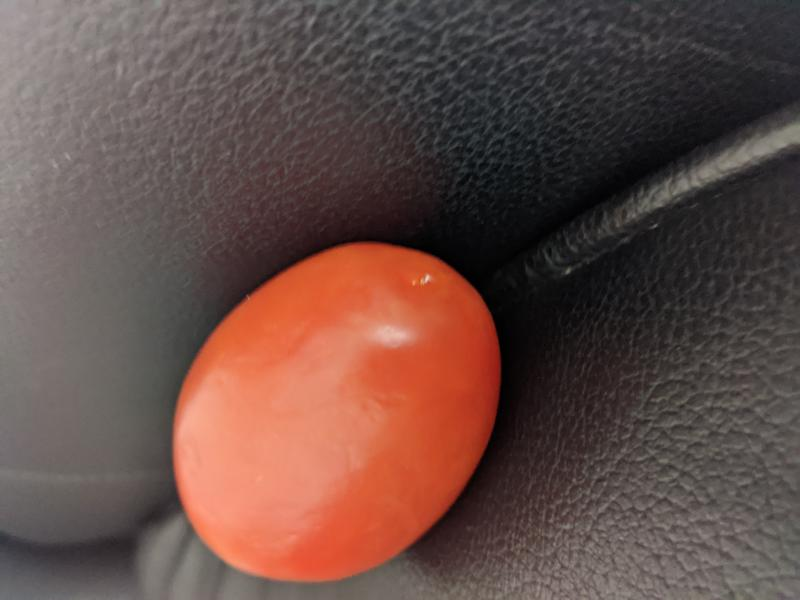tomato: (169, 238, 501, 582)
